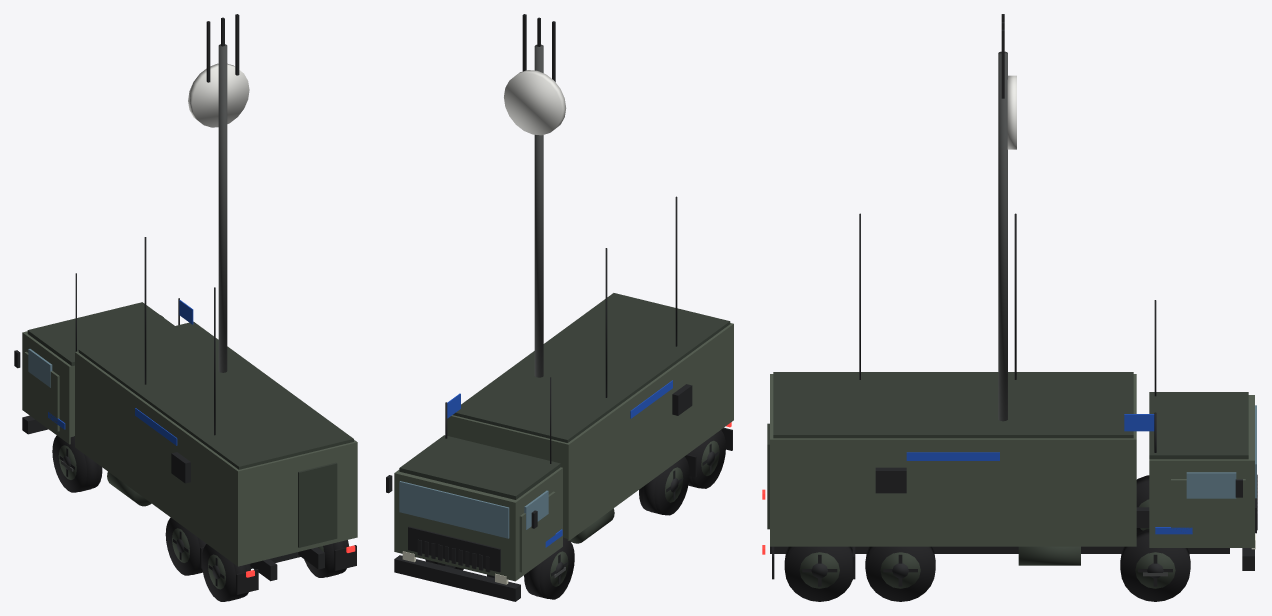
Rendered from Comms_Blue.fbx.
The picture shows the model from 3 angles, left to right: view 1: azimuth 30°, elevation 25°; view 2: azimuth 150°, elevation 25°; view 3: azimuth 270°, elevation 25°; orthographic projection. The views are drawn at different scales.
Visible parts, largest first — view 1: Shelter, ShelterRoof, CabRoof, Mast, ShelterDoor, Dish, Cab, DoorL1Panel, TyreL1, TyreL3, TyreL2, DoorL1Window (+3 smaller); view 2: ShelterRoof, Shelter, Cab, CabRoof, Windshield, Dish, Mast, Bumper, GrilleFront, DoorL1Panel, TyreL2, TyreL1 (+4 smaller); view 3: Shelter, ShelterRoof, CabRoof, Cab, DoorR1Panel, Mast, TyreR1, TyreR2, TyreR3, FrameRailR, DoorR1Window, FuelTankR (+6 smaller).
Part boxes in pixels (x1=…): Shelter: x1=75, y1=351, x2=357, y2=566; ShelterRoof: x1=78, y1=321, x2=353, y2=469; CabRoof: x1=27, y1=302, x2=174, y2=365; Mast: x1=218, y1=44, x2=227, y2=372; ShelterDoor: x1=298, y1=462, x2=337, y2=547; Dish: x1=188, y1=63, x2=249, y2=127; Cab: x1=22, y1=331, x2=74, y2=444; DoorL1Panel: x1=24, y1=352, x2=59, y2=431; TyreL1: x1=52, y1=435, x2=102, y2=492; TyreL3: x1=202, y1=544, x2=250, y2=601; TyreL2: x1=165, y1=517, x2=199, y2=575; DoorL1Window: x1=28, y1=349, x2=52, y2=387; ShelterRoof: x1=453, y1=293, x2=730, y2=442; Shelter: x1=447, y1=323, x2=733, y2=540; Cab: x1=394, y1=467, x2=562, y2=581; CabRoof: x1=399, y1=435, x2=560, y2=499; Windshield: x1=399, y1=481, x2=509, y2=538; Dish: x1=504, y1=70, x2=566, y2=135; Mast: x1=534, y1=44, x2=543, y2=377; Bumper: x1=394, y1=555, x2=520, y2=601; GrilleFront: x1=408, y1=526, x2=500, y2=572; DoorL1Panel: x1=519, y1=491, x2=555, y2=572; TyreL2: x1=639, y1=456, x2=689, y2=515; TyreL1: x1=524, y1=538, x2=574, y2=599; Shelter: x1=770, y1=374, x2=1136, y2=546; ShelterRoof: x1=773, y1=372, x2=1133, y2=438; CabRoof: x1=1149, y1=392, x2=1248, y2=459; Cab: x1=1149, y1=395, x2=1254, y2=547; DoorR1Panel: x1=1171, y1=479, x2=1245, y2=542; Mast: x1=998, y1=51, x2=1007, y2=421; TyreR1: x1=1120, y1=529, x2=1190, y2=601; TyreR2: x1=865, y1=546, x2=935, y2=601; TyreR3: x1=785, y1=546, x2=852, y2=601; FrameRailR: x1=770, y1=546, x2=1229, y2=553; DoorR1Window: x1=1186, y1=472, x2=1236, y2=498; FuelTankR: x1=1018, y1=546, x2=1080, y2=565.
Size of the model in its own units: 306 by 797 by 1000.
